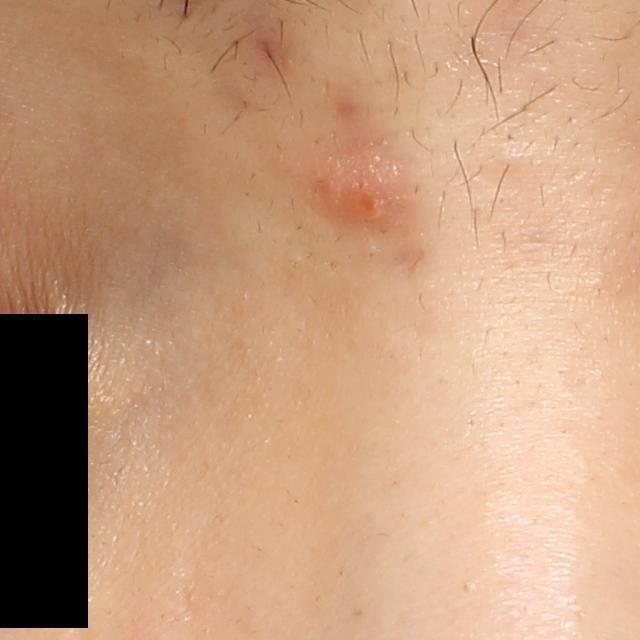papule: (305, 145, 425, 234)
